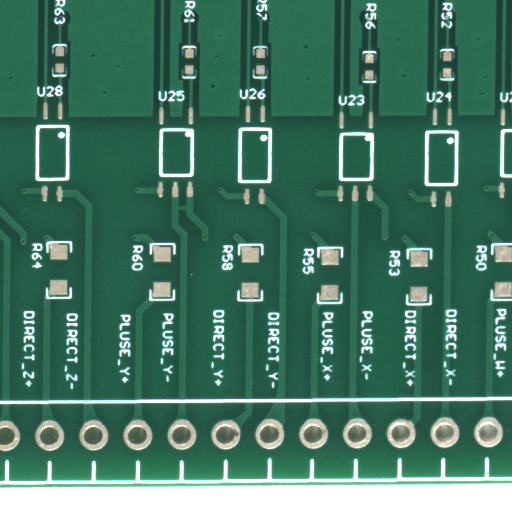Short: (182, 207, 195, 216)
